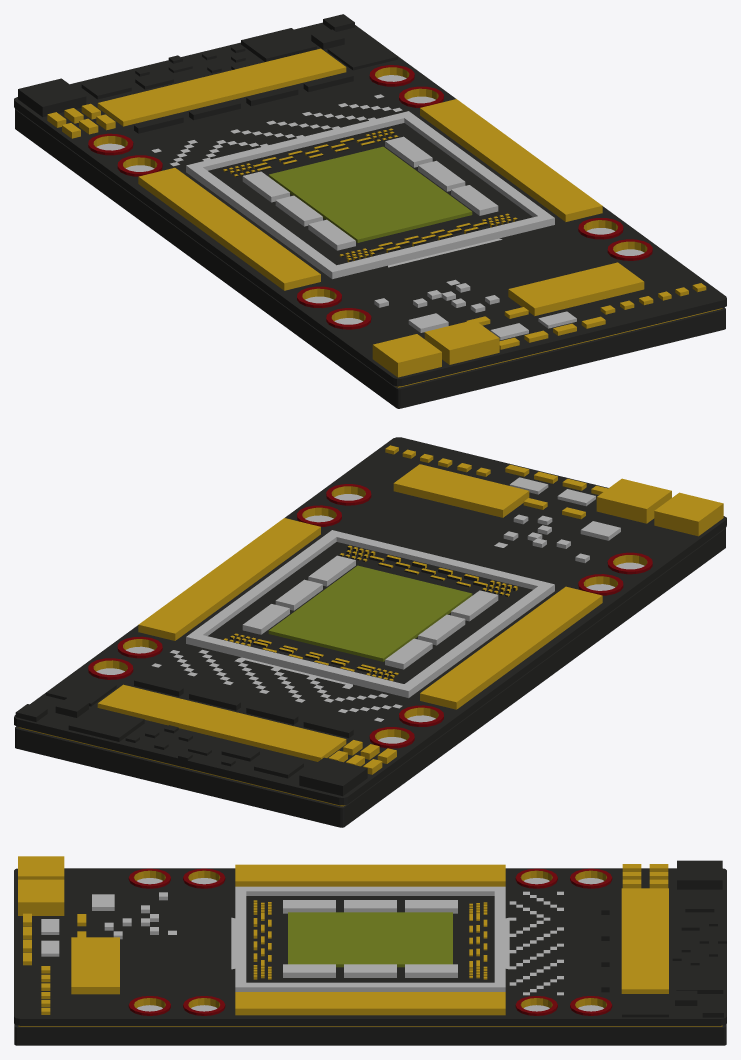
The model's file is core.fbx.
3 views of the same model, one above another, from view 1: azimuth 30°, elevation 25°; view 2: azimuth 150°, elevation 25°; view 3: azimuth 270°, elevation 25° (orthographic). The views are drawn at different scales.
Parts seen in each view (by area): view 1: Cube; view 2: Cube; view 3: Cube.
Boxes of the visible parts, left/top/right/bottom form: Cube: left=14, top=14, right=726, bottom=408; Cube: left=14, top=437, right=726, bottom=827; Cube: left=14, top=856, right=726, bottom=1045.
Bounding box in the file's own units: 200 × 25.59 × 400.
